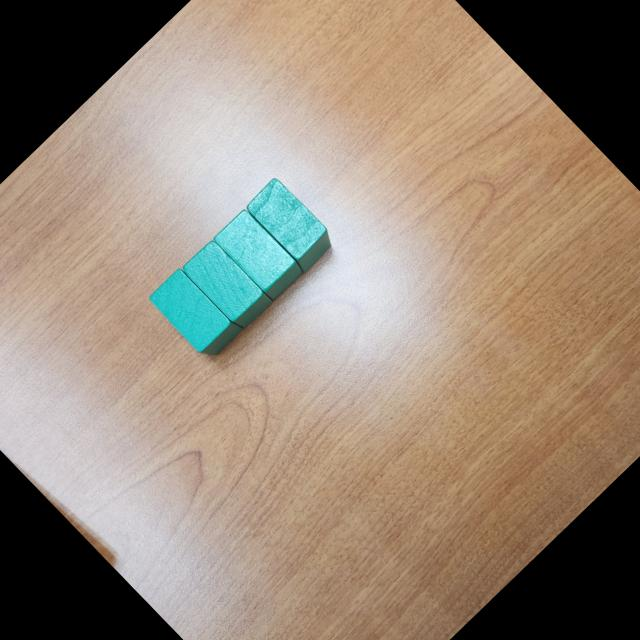green: (240, 174, 341, 276), (146, 264, 246, 365), (212, 206, 308, 304), (179, 236, 275, 334)
